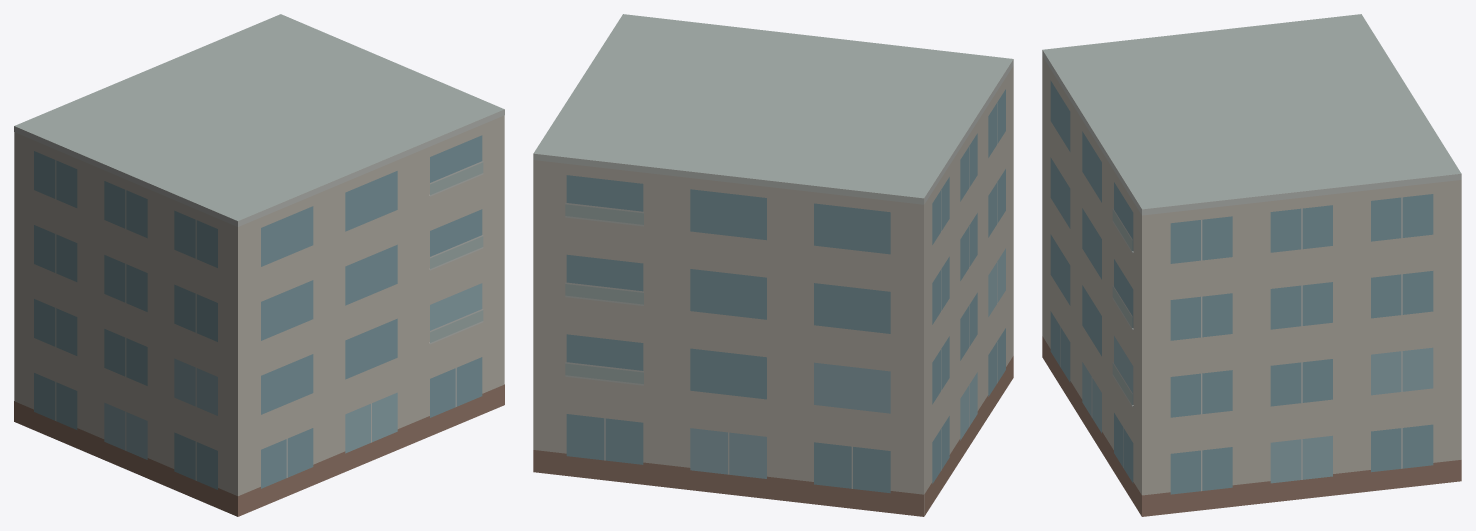
The model's file is residential-fd6a4c83-50b5-46b4-b857-1ab9b6846563.glb.
3 views of the same model, side by side, from view 1: azimuth 30°, elevation 25°; view 2: azimuth 150°, elevation 25°; view 3: azimuth 270°, elevation 25° (orthographic). The views are drawn at different scales.
Parts seen in each view (by area): view 1: residential-fd6a4c83-50b5-46b4-b857-1ab9b6846563.tmp; view 2: residential-fd6a4c83-50b5-46b4-b857-1ab9b6846563.tmp; view 3: residential-fd6a4c83-50b5-46b4-b857-1ab9b6846563.tmp.
Part boxes in pixels (x1,y1,x2,y2): residential-fd6a4c83-50b5-46b4-b857-1ab9b6846563.tmp: (14,14,504,516); residential-fd6a4c83-50b5-46b4-b857-1ab9b6846563.tmp: (533,14,1013,516); residential-fd6a4c83-50b5-46b4-b857-1ab9b6846563.tmp: (1042,14,1461,516).
Bounding box in the file's own units: 16.64 × 12.2 × 15.08.
